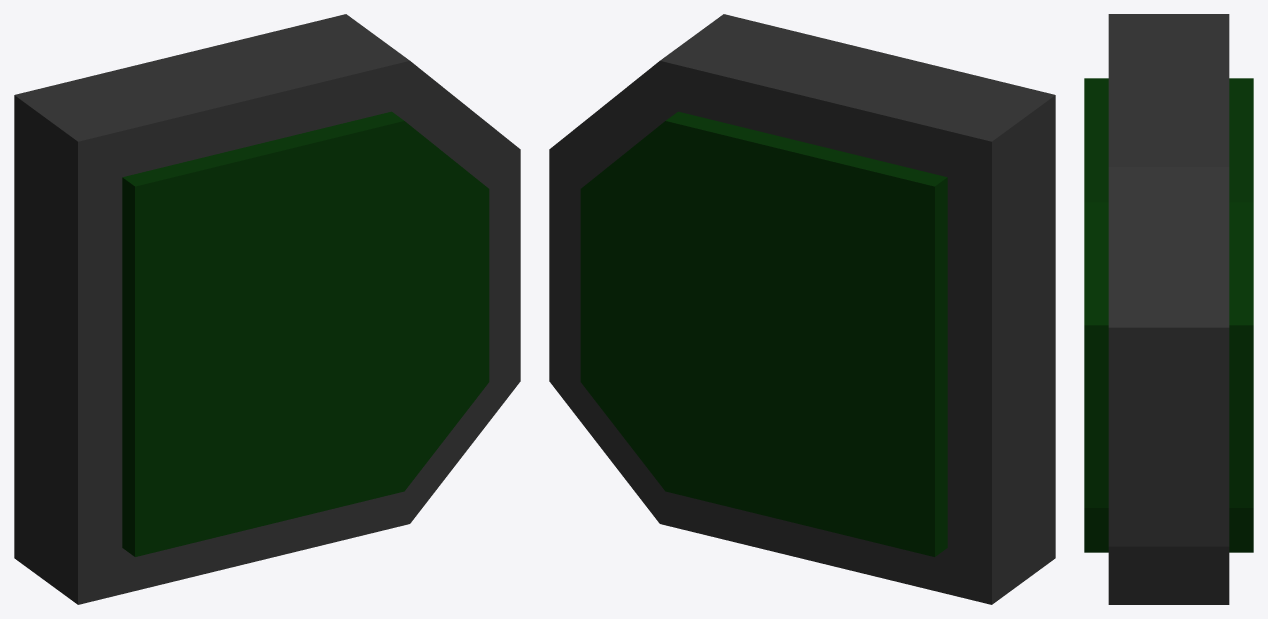
File: enemy.dae
3 renders of one model, left to right at view 1: azimuth 30°, elevation 25°; view 2: azimuth 150°, elevation 25°; view 3: azimuth 270°, elevation 25°, orthographic. The views are drawn at different scales.
Parts seen in each view (by area): view 1: enemy; view 2: enemy; view 3: enemy.
Boxes of the visible parts, <box> form: enemy: <box>14,14,520,604</box>; enemy: <box>549,14,1055,604</box>; enemy: <box>1084,14,1253,604</box>.
Bounding box in the file's own units: 2 × 0.7 × 2.
1 material, 1 textured.
